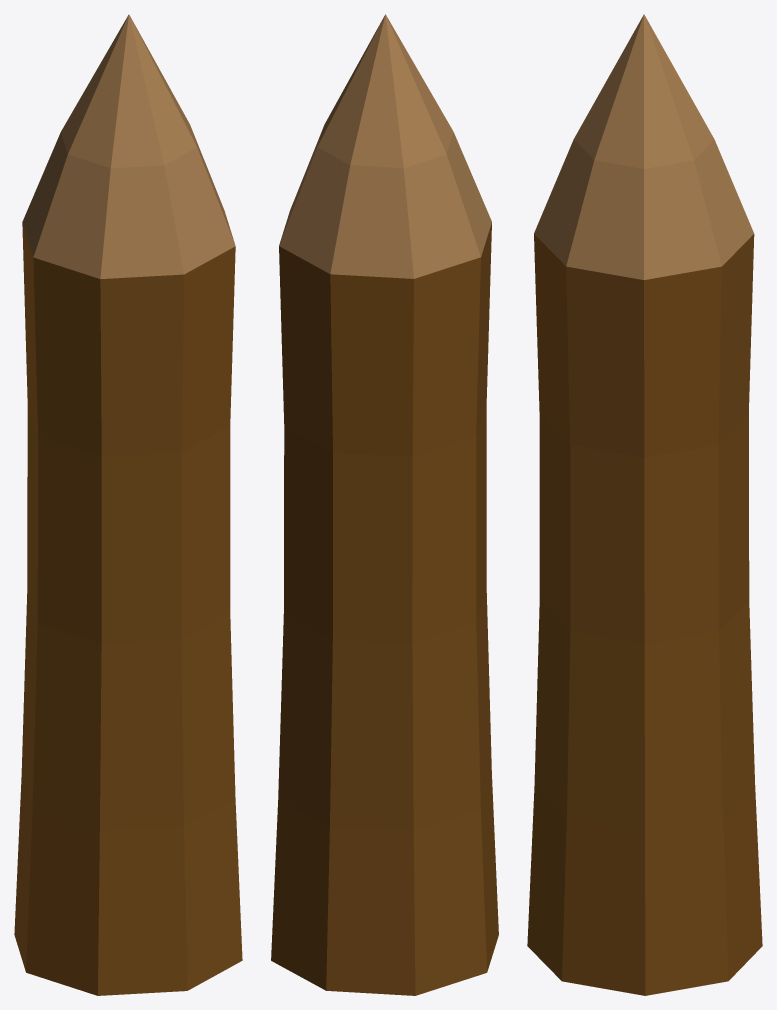
The model's file is Fence-Post-Short.001.fbx.
The picture shows the model from 3 angles, left to right: view 1: azimuth 30°, elevation 25°; view 2: azimuth 150°, elevation 25°; view 3: azimuth 270°, elevation 25°; orthographic projection.
Visible parts, largest first — view 1: Fence-Post-Short.001; view 2: Fence-Post-Short.001; view 3: Fence-Post-Short.001.
Boxes of the visible parts, left/top/right/bottom form: Fence-Post-Short.001: left=14, top=14, right=242, bottom=995; Fence-Post-Short.001: left=271, top=14, right=498, bottom=995; Fence-Post-Short.001: left=527, top=14, right=762, bottom=995.
Bounding box in the file's own units: 50.65 × 221 × 50.52.
